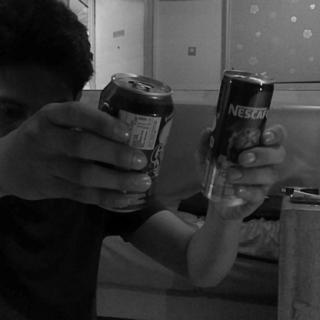alumunium_can: (90, 74, 174, 212), (198, 70, 274, 204)
